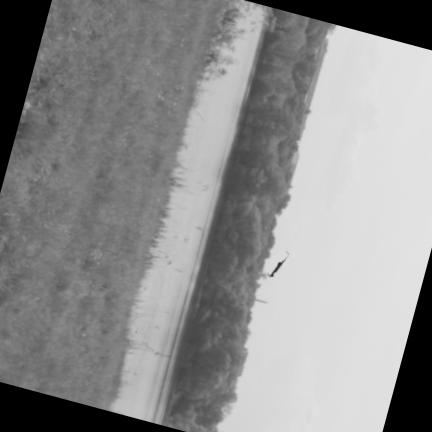Shahed: (266, 251, 287, 275)
